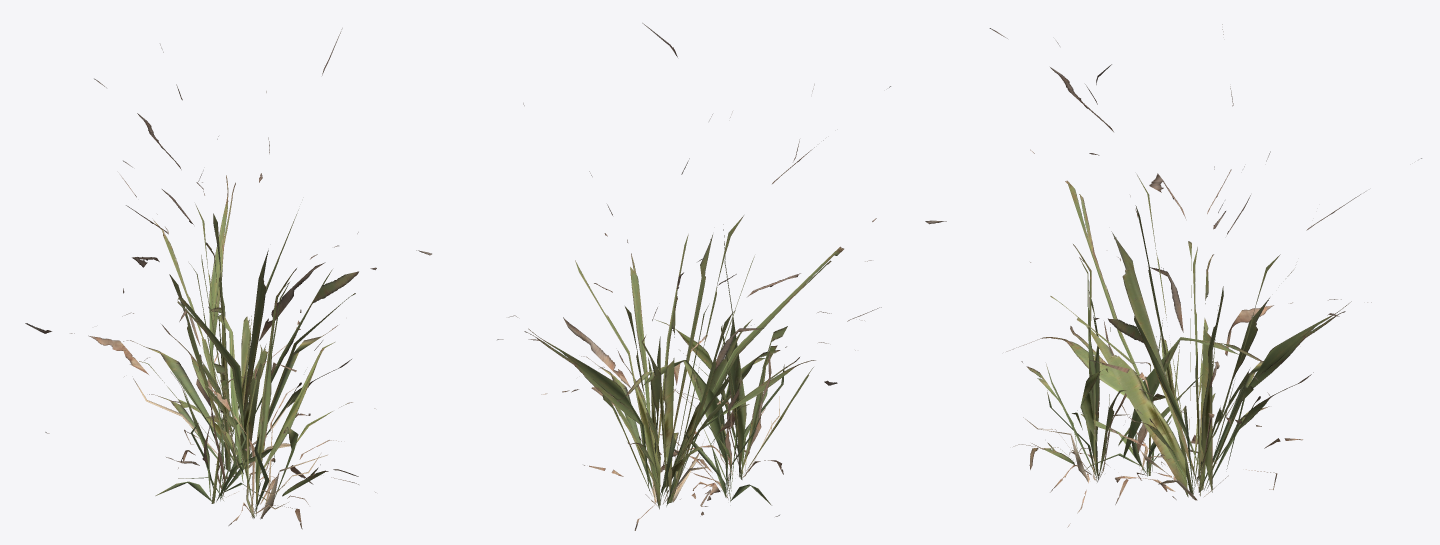
3 renders of one model, left to right at view 1: azimuth 30°, elevation 25°; view 2: azimuth 150°, elevation 25°; view 3: azimuth 270°, elevation 25°, orthographic. The views are drawn at different scales.
Parts seen in each view (by area): view 1: grass_medium_02_e, grass_medium_02_c, grass_medium_02_a; view 2: grass_medium_02_e, grass_medium_02_c, grass_medium_02_a; view 3: grass_medium_02_e, grass_medium_02_c, grass_medium_02_a.
Boxes of the visible parts, <box> form: grass_medium_02_e: <box>25,28,431,489</box>; grass_medium_02_c: <box>171,268,375,529</box>; grass_medium_02_a: <box>155,355,273,503</box>; grass_medium_02_e: <box>497,23,890,530</box>; grass_medium_02_c: <box>617,224,881,479</box>; grass_medium_02_a: <box>659,352,771,505</box>; grass_medium_02_e: <box>925,24,1421,500</box>; grass_medium_02_c: <box>1013,244,1263,527</box>; grass_medium_02_a: <box>1077,320,1202,480</box>.
Bounding box in the file's own units: 0.309 × 0.4032 × 0.3851.
1 material, 1 textured.
